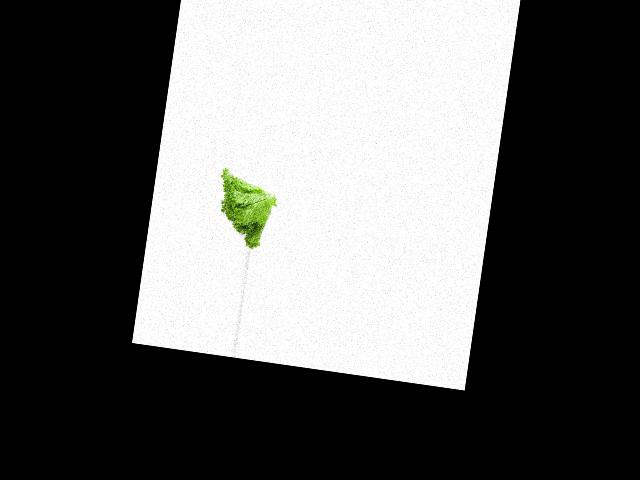lettuce: (209, 166, 279, 252)
